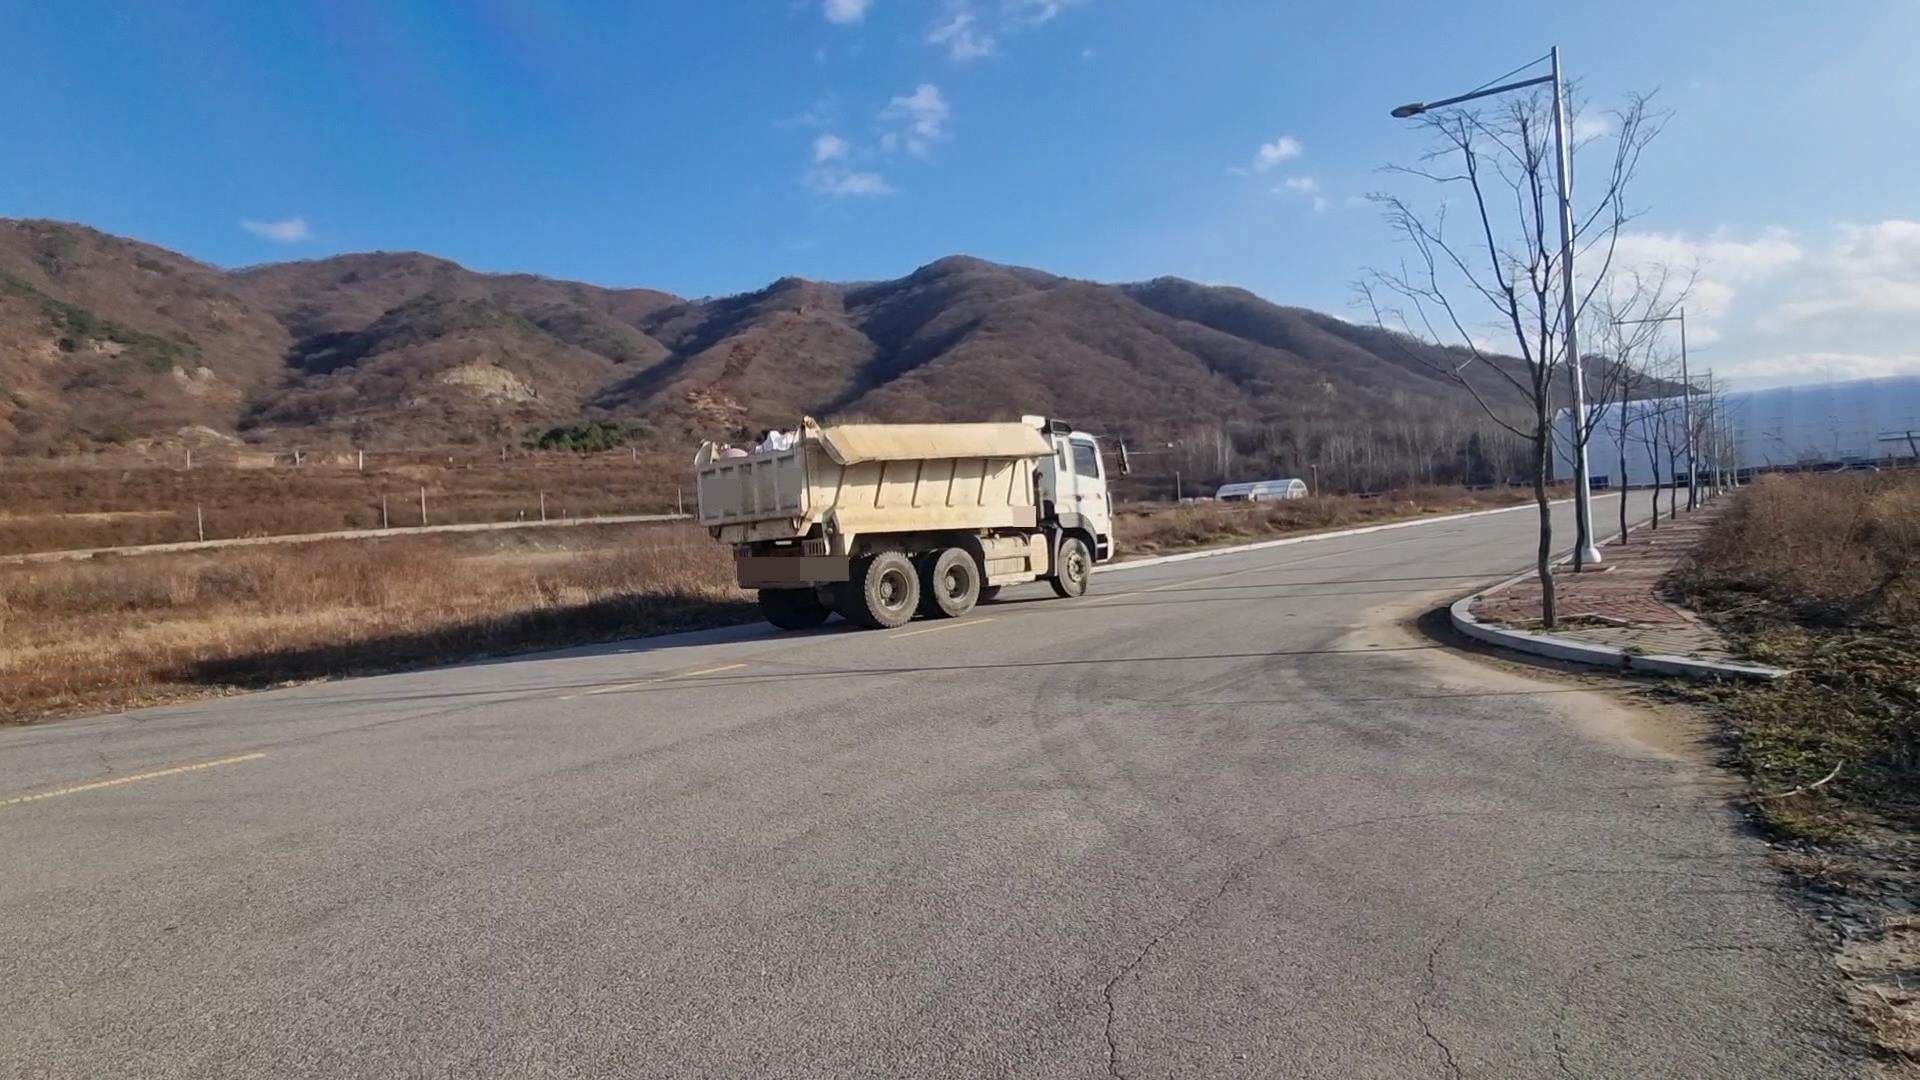불법차량: (692, 414, 1131, 632)
